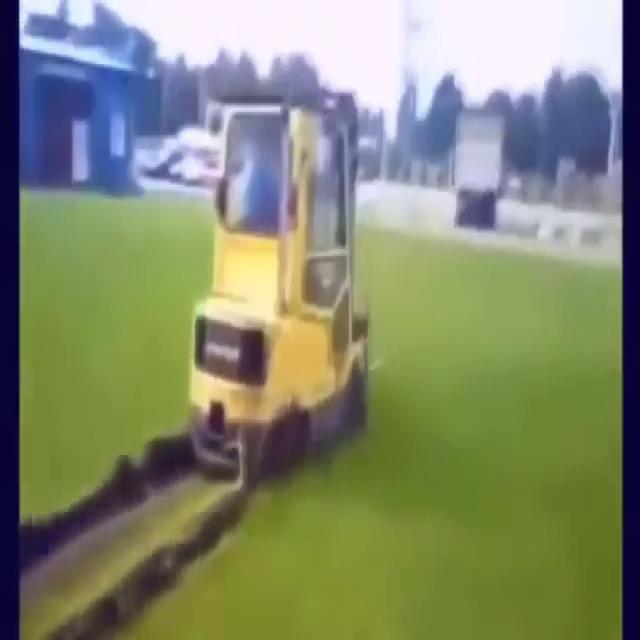Chariot elevateur: (189, 71, 380, 482)
